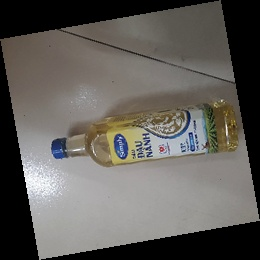Simply: (51, 98, 240, 169)
